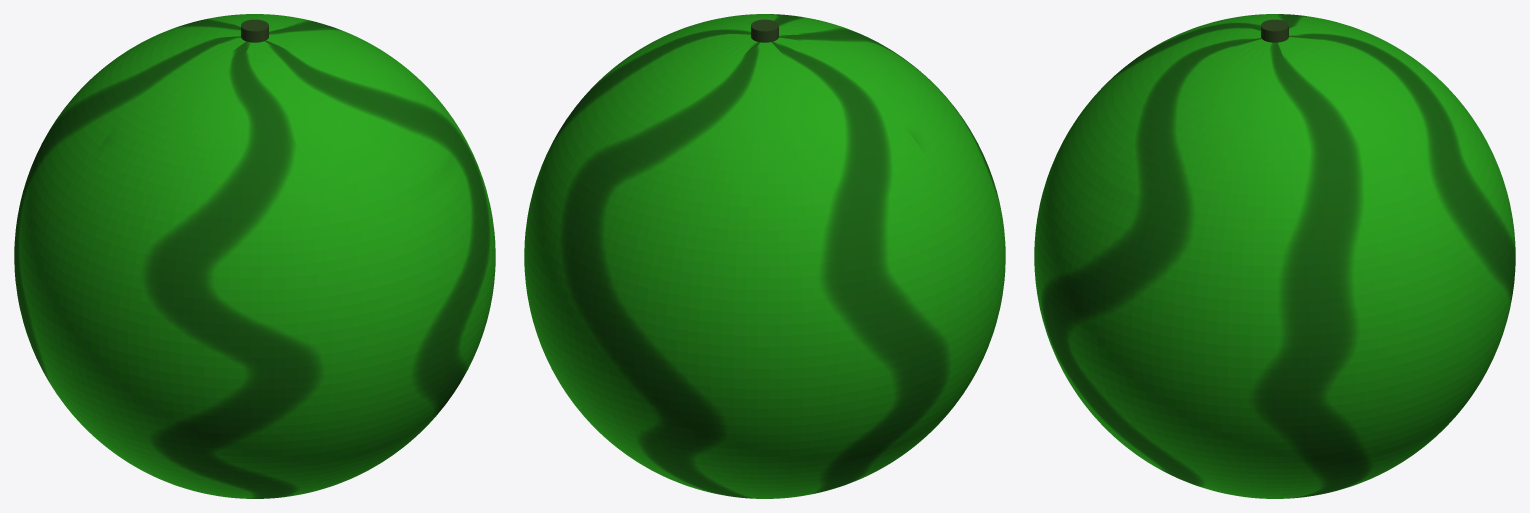
Rendered from Watermelon _Subdivided.fbx.
The picture shows the model from 3 angles, left to right: view 1: azimuth 30°, elevation 25°; view 2: azimuth 150°, elevation 25°; view 3: azimuth 270°, elevation 25°; orthographic projection.
Parts seen in each view (by area): view 1: Sphere, Cylinder; view 2: Sphere, Cylinder; view 3: Sphere, Cylinder.
Part boxes in pixels (x1,y1,x2,y2): Sphere: (14,14,495,498); Cylinder: (241,19,268,42); Sphere: (524,14,1005,498); Cylinder: (751,19,778,42); Sphere: (1034,14,1515,498); Cylinder: (1261,19,1288,42).
Bounding box in the file's own units: 344 × 356 × 344.
2 materials, 1 textured.
